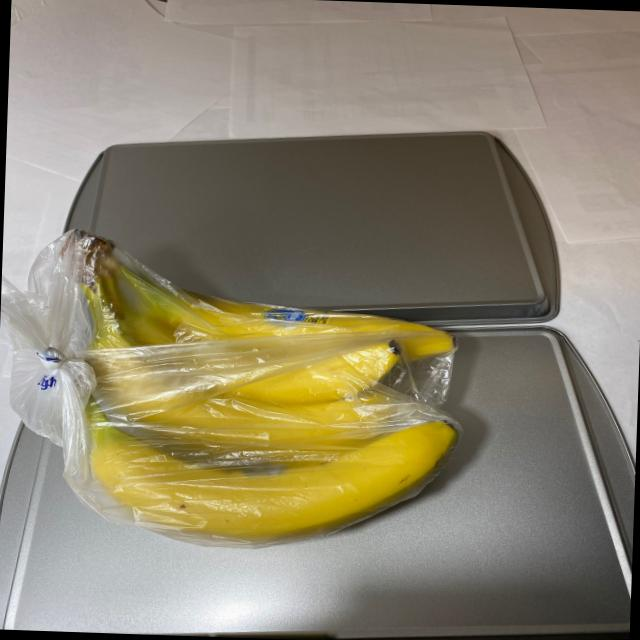banana: (49, 228, 462, 552)
